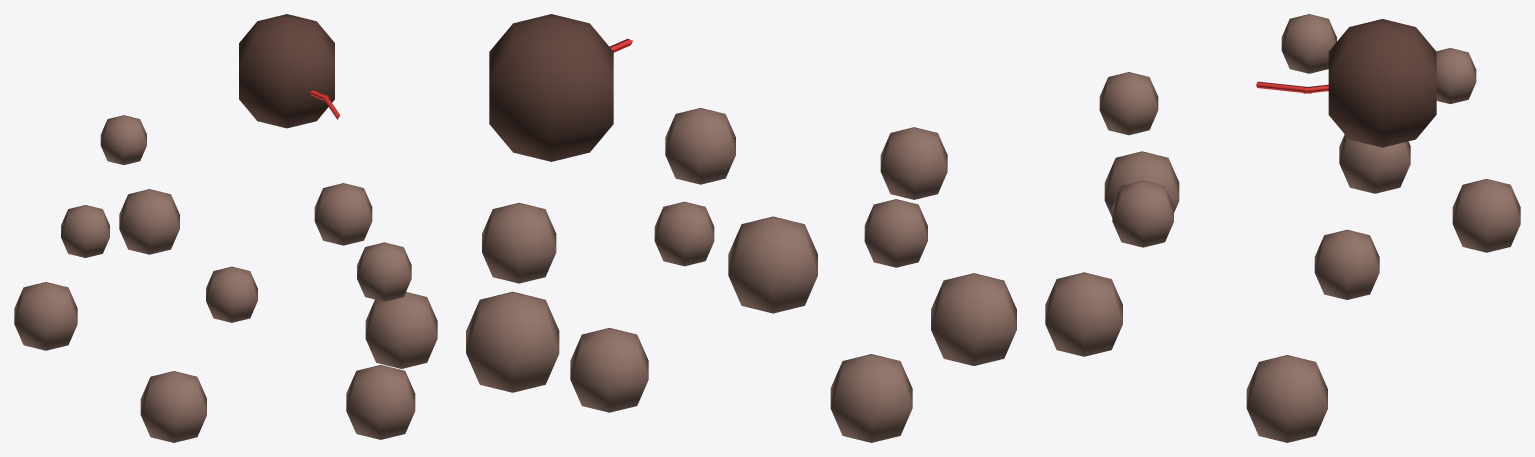
The model's file is ular.glb.
The picture shows the model from 3 angles, left to right: view 1: azimuth 30°, elevation 25°; view 2: azimuth 150°, elevation 25°; view 3: azimuth 270°, elevation 25°; orthographic projection. The views are drawn at different scales.
Bounding box in the file's own units: 1.07 × 0.89 × 1.02.
